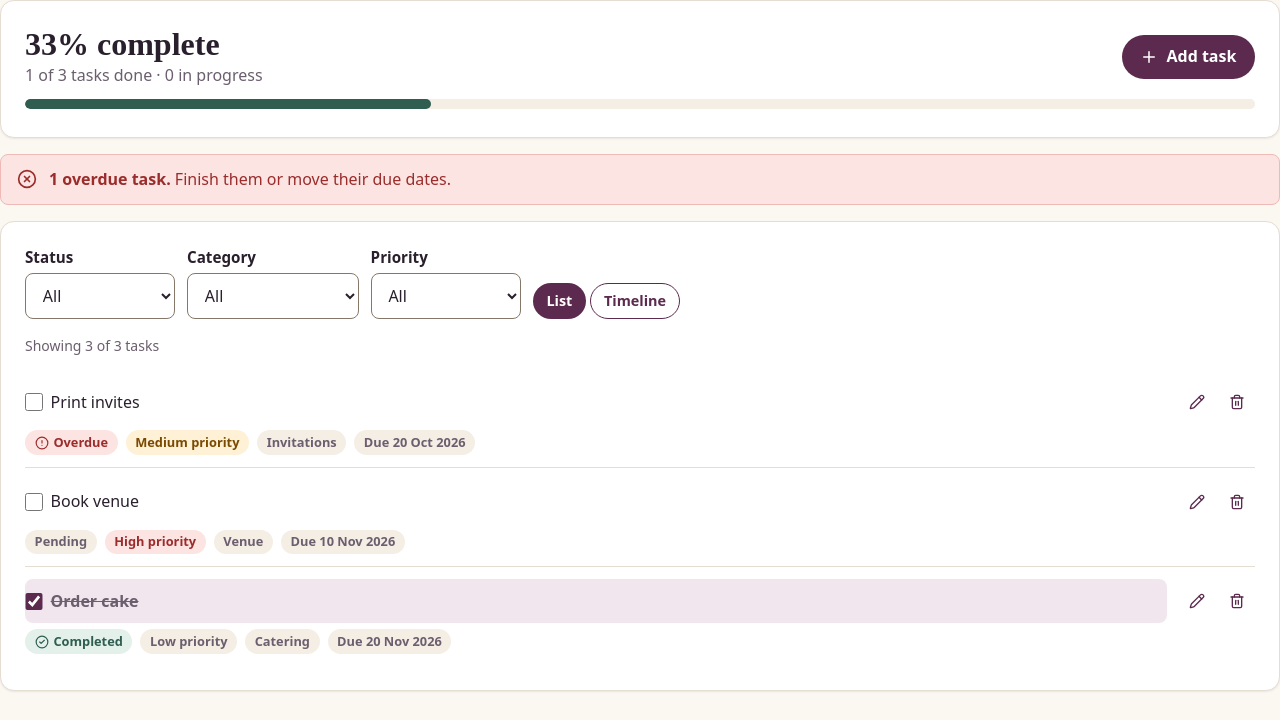
TasksTab › reports a failed status change
Click the checkbox labelled "Book venue".
click(34, 502)  # box 25,493 -> 43,511
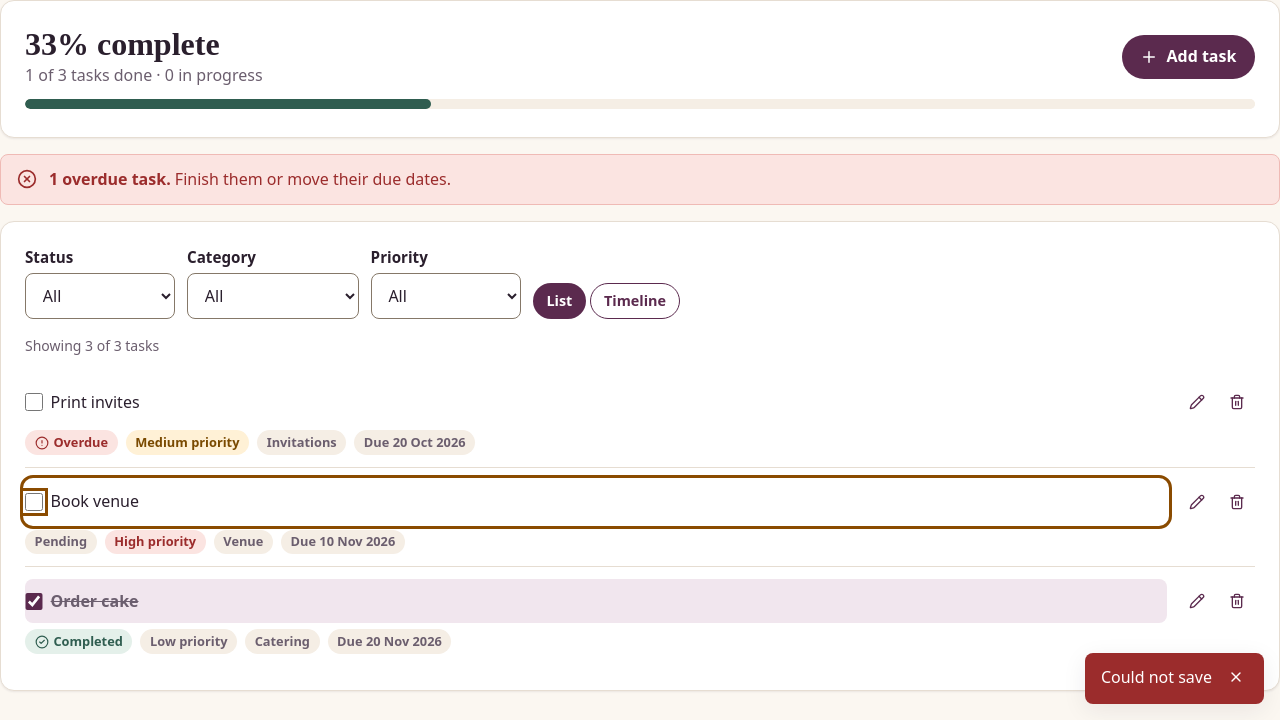
expect the text "Could not save" is shown: met, box 1101,665 -> 1212,690
